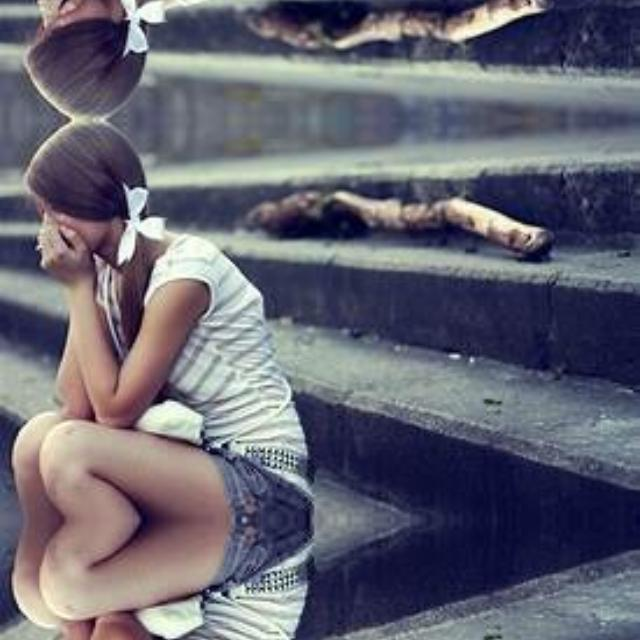person: (12, 119, 288, 519), (12, 519, 287, 640), (12, 0, 287, 119)
